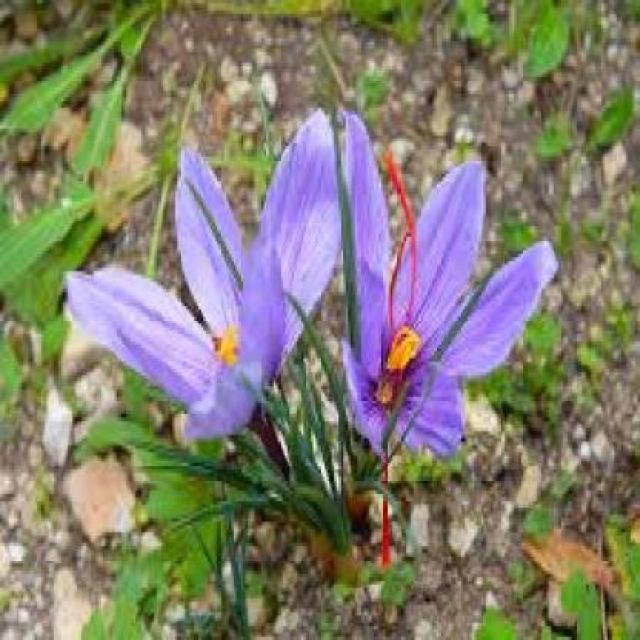Flower: (62, 112, 342, 445), (337, 105, 557, 452)
stigma: (386, 139, 423, 335), (376, 406, 392, 581)
